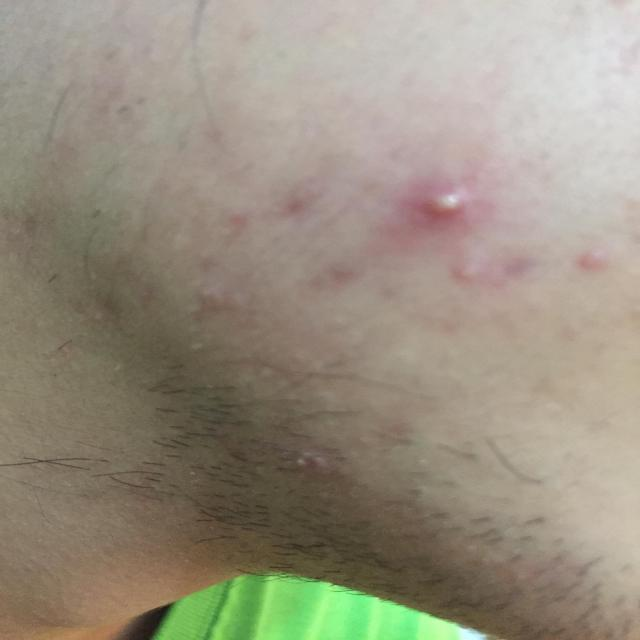blackheads: (394, 169, 497, 242)
